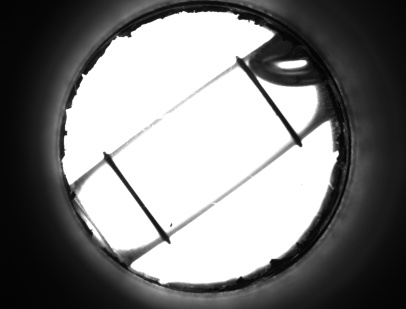line: (109, 173, 162, 220), (254, 99, 299, 128)
